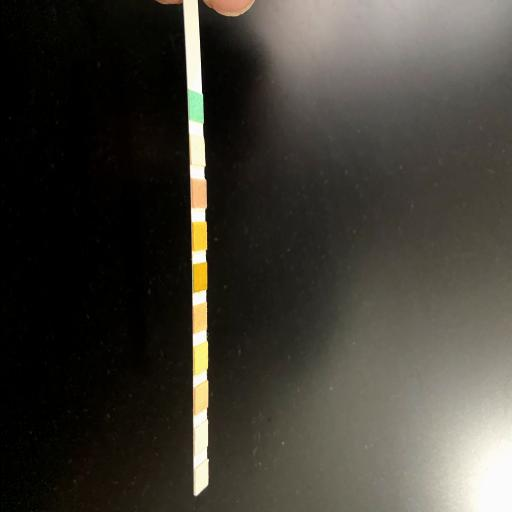Bilirubin: (190, 138, 202, 163)
Blood: (194, 264, 206, 289)
Glucose: (188, 94, 202, 120)
Ketone: (192, 180, 206, 206)
Leukocytes: (194, 471, 206, 485)
Nitrite: (194, 430, 206, 446)
Protein: (194, 349, 206, 367)
SpGravity: (193, 224, 205, 250)
Urobilinogen: (194, 390, 206, 406)
pH: (193, 306, 205, 328)
strip: (182, 1, 208, 497)
